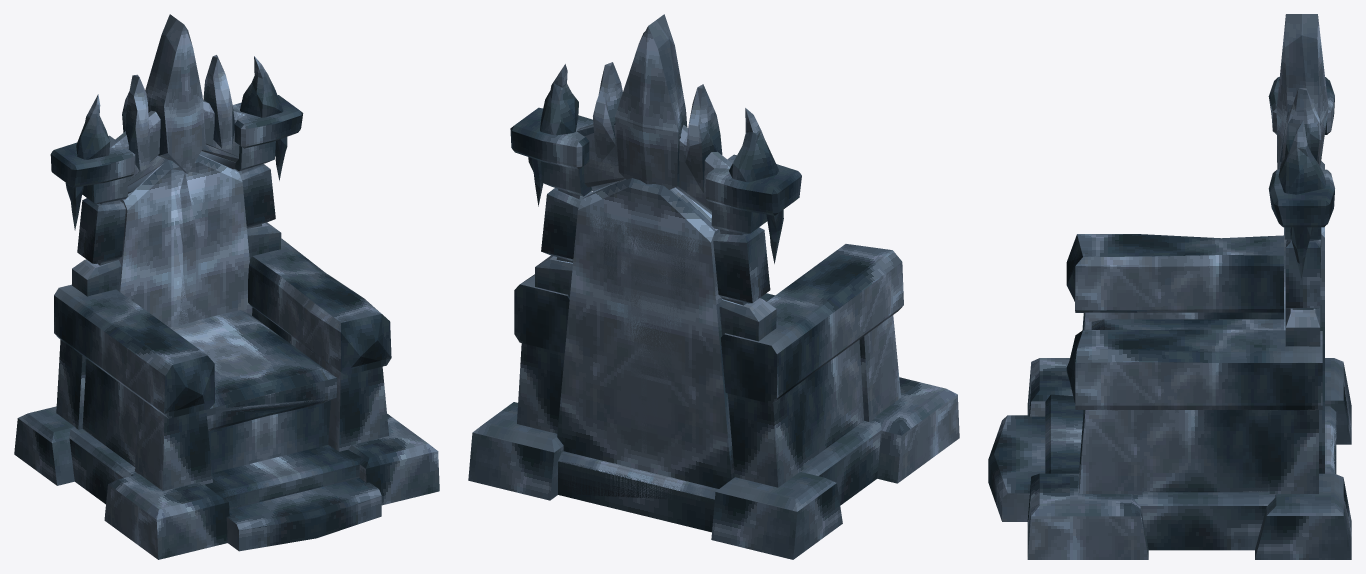
The model's file is item_castle_throne_ice.glb.
The picture shows the model from 3 angles, left to right: view 1: azimuth 30°, elevation 25°; view 2: azimuth 150°, elevation 25°; view 3: azimuth 270°, elevation 25°; orthographic projection. The views are drawn at different scales.
Visible parts, largest first — view 1: Throne; view 2: Throne; view 3: Throne.
Boxes of the visible parts, bbox=[...] form: Throne: bbox=[14, 14, 439, 559]; Throne: bbox=[468, 14, 959, 559]; Throne: bbox=[988, 14, 1351, 559].
Bounding box in the file's own units: 0.8375 × 1.19 × 0.8329.
1 material, 1 textured.
